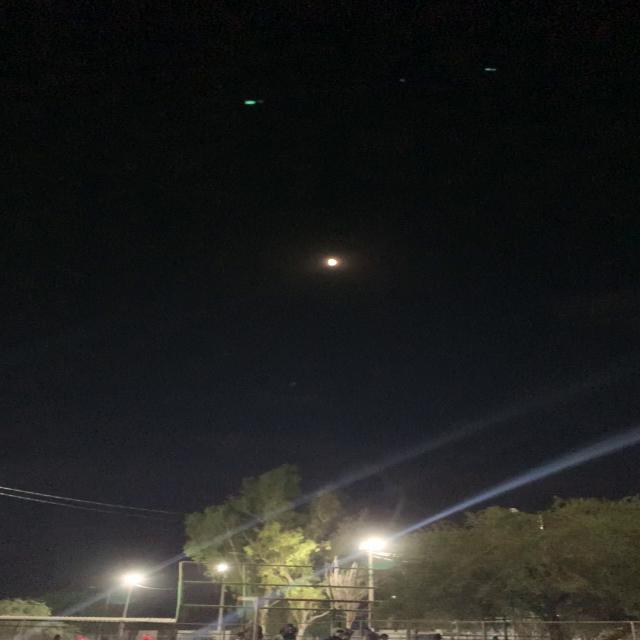moon: (320, 233, 348, 276)
